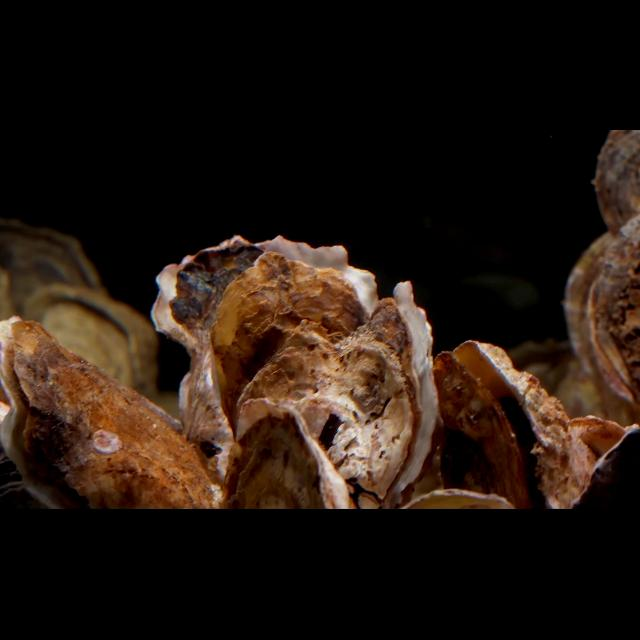Oyster-Closed: (240, 321, 418, 511), (213, 251, 371, 445), (0, 216, 108, 400), (564, 228, 640, 400)
Oyster-Open: (155, 234, 383, 486), (0, 315, 224, 511), (408, 337, 604, 511), (348, 278, 444, 510), (219, 391, 355, 511), (23, 283, 161, 401)
